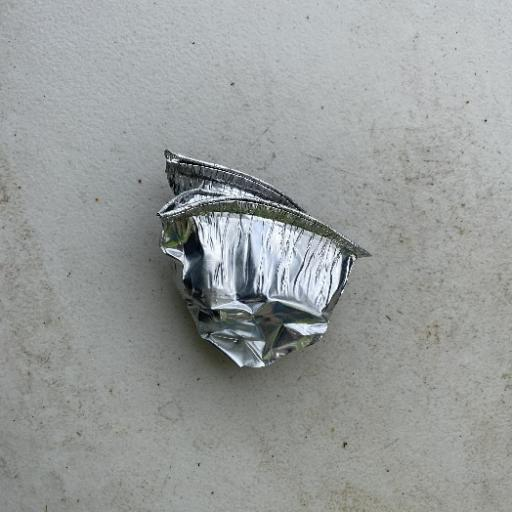Metal: (154, 146, 372, 370)
